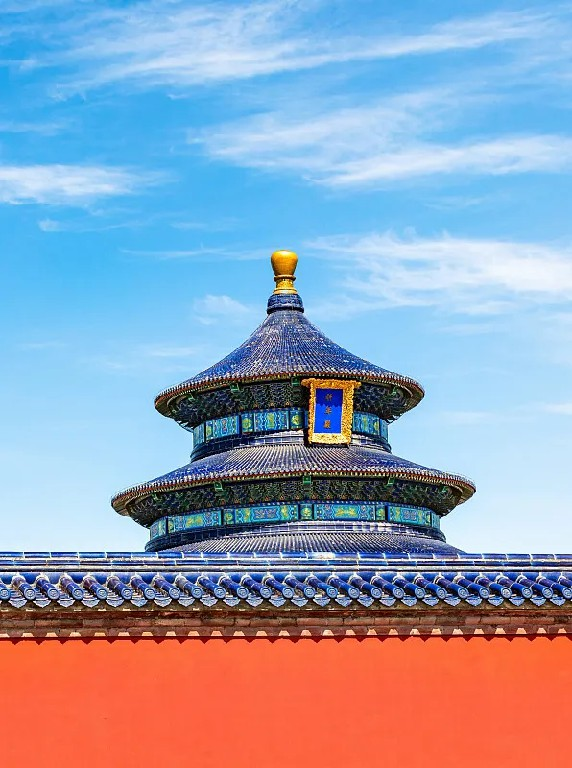Heaven: (108, 249, 479, 555)
